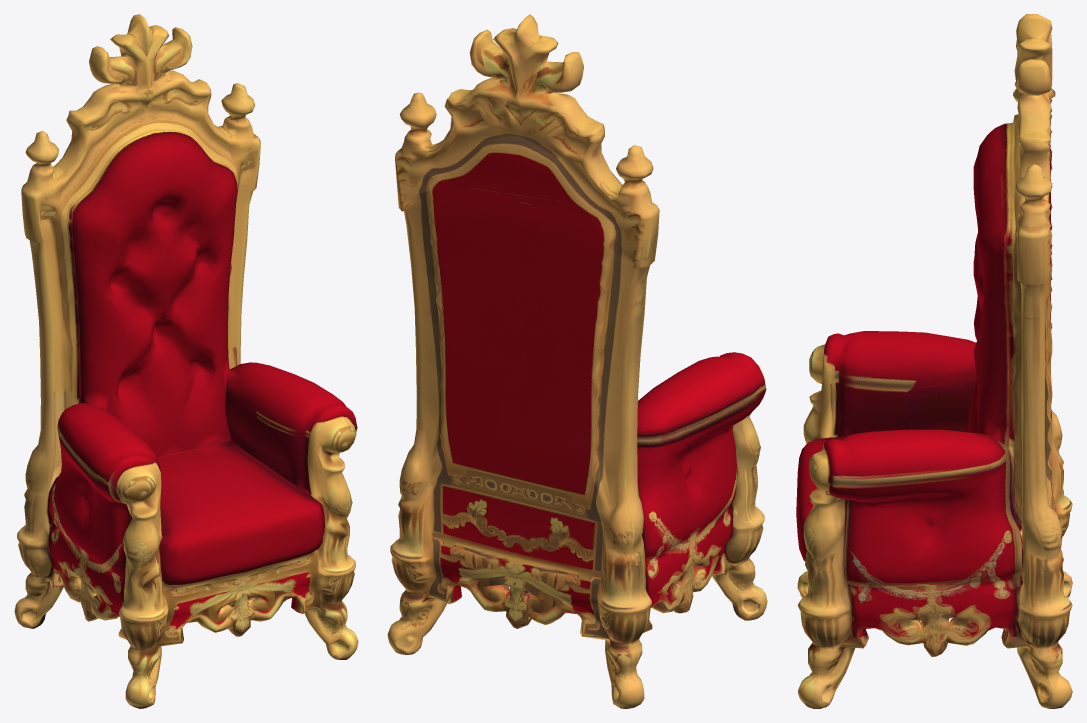
File: throne.glb
3 renders of one model, left to right at view 1: azimuth 30°, elevation 25°; view 2: azimuth 150°, elevation 25°; view 3: azimuth 270°, elevation 25°, orthographic. The views are drawn at different scales.
Size of the model in its own units: 0.8415 by 1.9 by 0.7436.
Materials: 1 (1 with a texture image).
